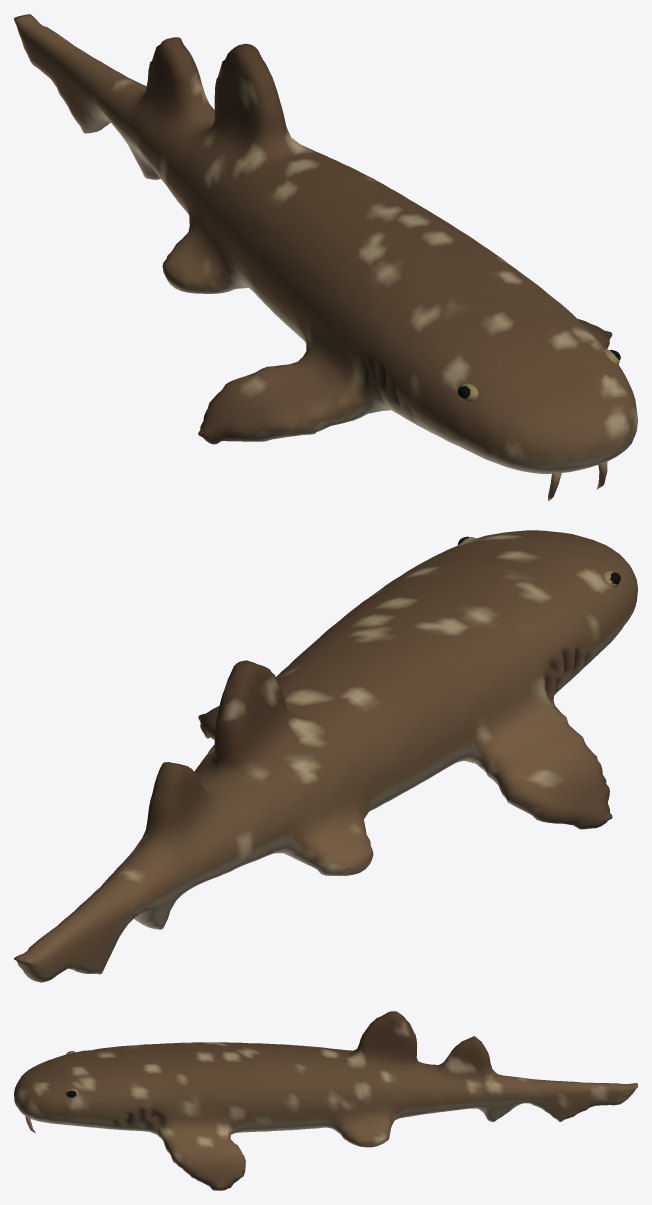
The model's file is Palaeorhincodon.fbx.
The picture shows the model from 3 angles, top to bottom: view 1: azimuth 30°, elevation 25°; view 2: azimuth 150°, elevation 25°; view 3: azimuth 270°, elevation 25°; orthographic projection. The views are drawn at different scales.
Visible parts, largest first — view 1: Palaeorhincodon; view 2: Palaeorhincodon; view 3: Palaeorhincodon.
Boxes of the visible parts, bbox=[...] form: Palaeorhincodon: bbox=[14, 14, 637, 501]; Palaeorhincodon: bbox=[14, 530, 637, 982]; Palaeorhincodon: bbox=[14, 1011, 637, 1190].
Bounding box in the file's own units: 0.8332 × 0.446 × 2.
